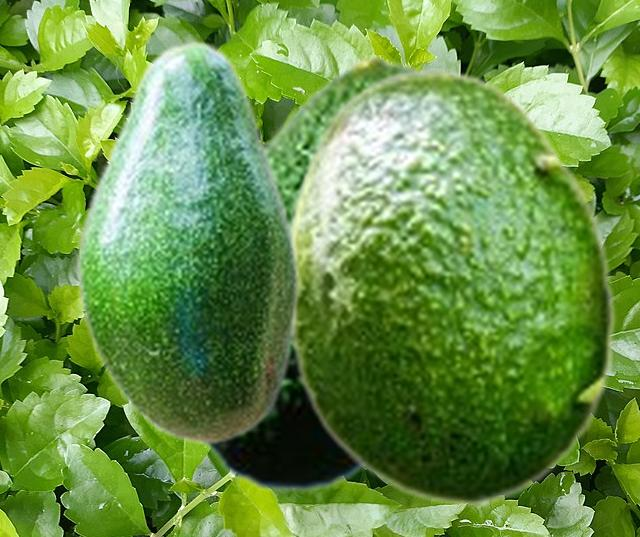avocado: (287, 68, 616, 506), (197, 55, 430, 493), (73, 39, 299, 445)
